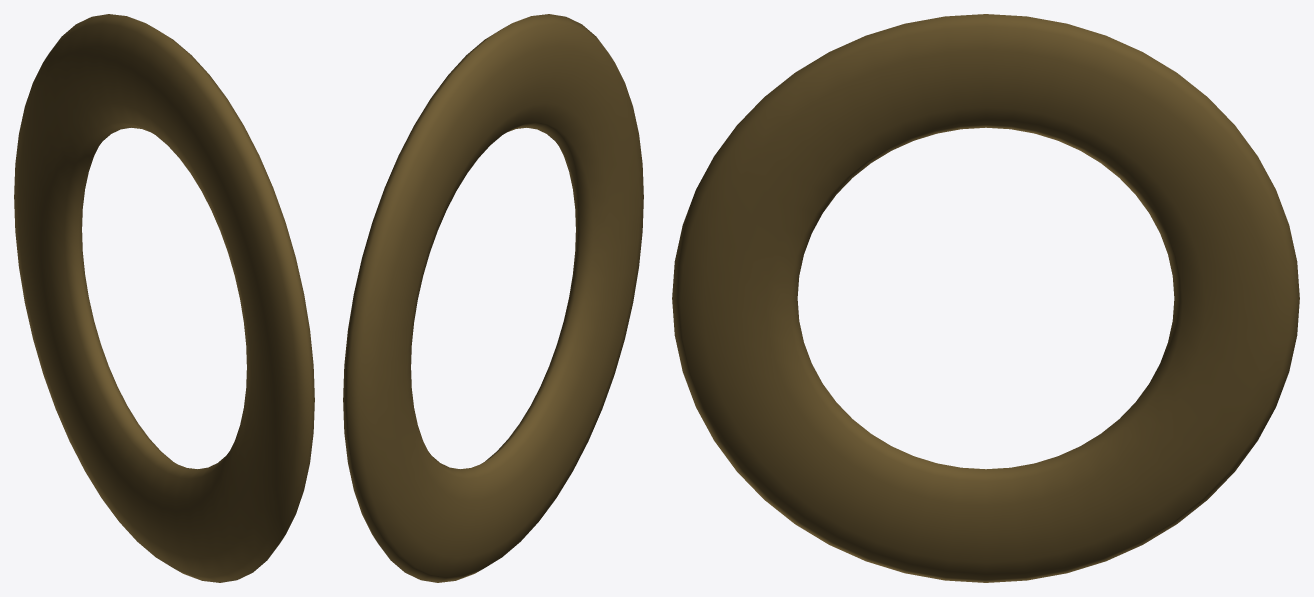
The model's file is saturn ring.fbx.
3 views of the same model, side by side, from view 1: azimuth 30°, elevation 25°; view 2: azimuth 150°, elevation 25°; view 3: azimuth 270°, elevation 25° (orthographic). The views are drawn at different scales.
Visible parts, largest first — view 1: Torus; view 2: Torus; view 3: Torus.
Boxes of the visible parts, bbox=[...] form: Torus: bbox=[14, 14, 314, 582]; Torus: bbox=[343, 14, 643, 582]; Torus: bbox=[672, 14, 1299, 582].
Bounding box in the file's own units: 0.1742 × 2.5 × 2.5.
